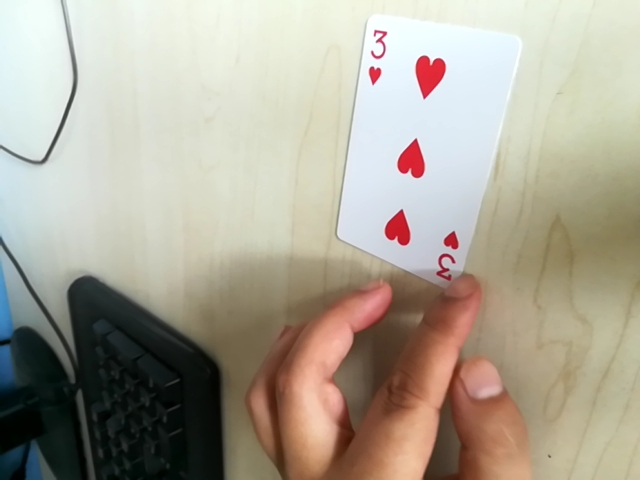hx 3: (359, 18, 392, 84), (426, 233, 467, 276)
